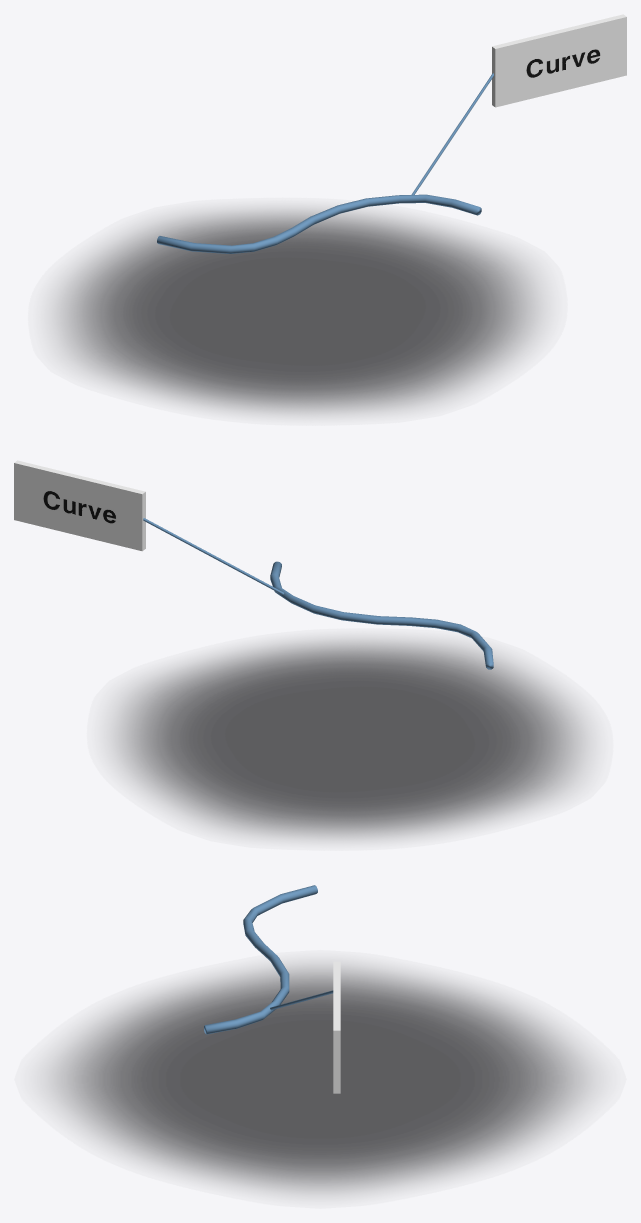
Rendered from concept_nurbs.glb.
3 renders of one model, top to bottom at view 1: azimuth 30°, elevation 25°; view 2: azimuth 150°, elevation 25°; view 3: azimuth 270°, elevation 25°, orthographic. The views are drawn at different scales.
Visible parts, largest first — view 1: plane_shadow, info_face, pPlane1; view 2: plane_shadow, info_face, pPlane1, line5; view 3: plane_shadow, pPlane1, info_face.
Boxes of the visible parts, x1=… form: plane_shadow: x1=54, y1=208, x2=541, y2=414; info_face: x1=492, y1=14, x2=626, y2=107; pPlane1: x1=157, y1=194, x2=481, y2=253; plane_shadow: x1=112, y1=639, x2=587, y2=839; info_face: x1=14, y1=460, x2=145, y2=551; pPlane1: x1=270, y1=561, x2=493, y2=669; line5: x1=143, y1=518, x2=283, y2=594; plane_shadow: x1=48, y1=964, x2=592, y2=1194; pPlane1: x1=204, y1=885, x2=317, y2=1034; info_face: x1=333, y1=961, x2=340, y2=1093.
Size of what is drawn, in the model's own units: 306 by 105 by 260.
Materials: 3 (2 with a texture image).
